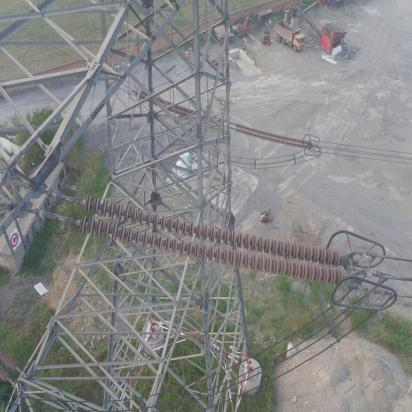insulator: (60, 193, 350, 290), (232, 122, 311, 151)
